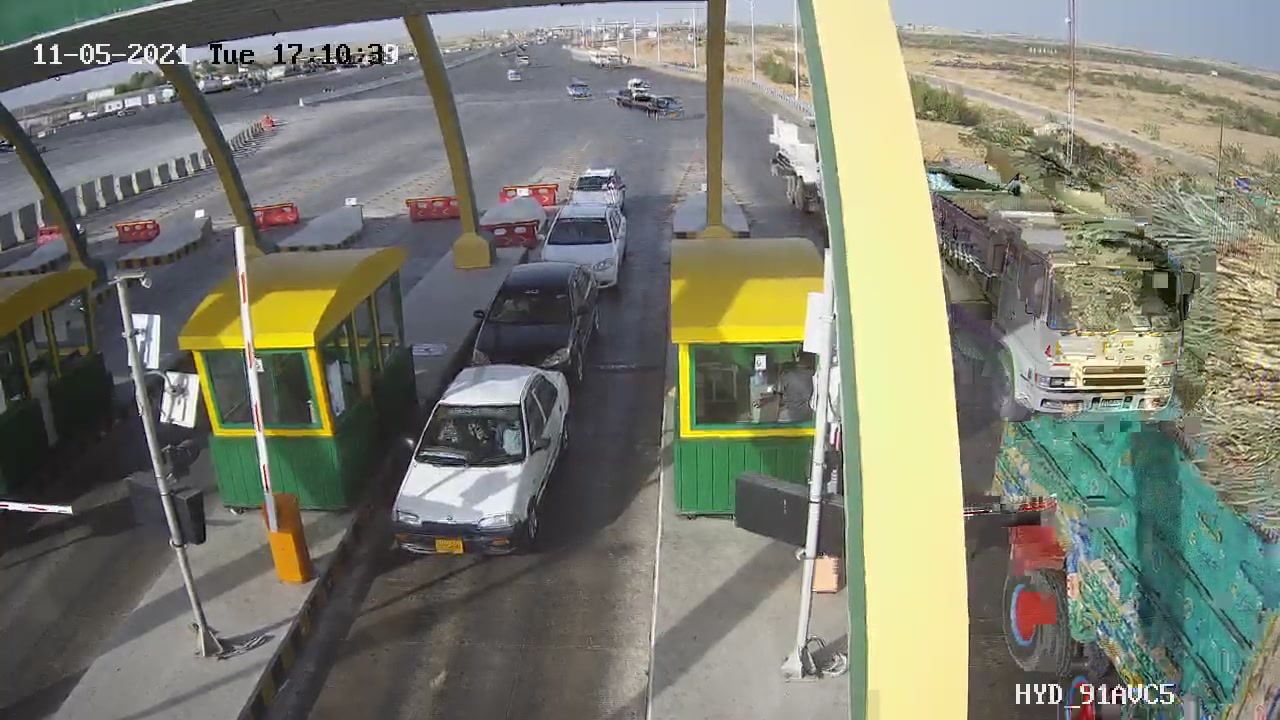F1: (368, 346, 583, 585), (453, 251, 625, 405)
